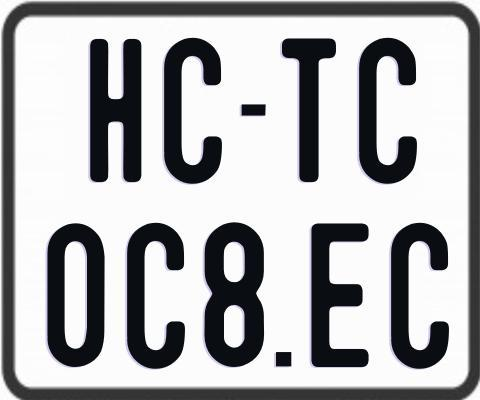0: (45, 223, 107, 368)
8: (203, 221, 266, 371)
C: (358, 38, 422, 187), (161, 38, 223, 190), (127, 222, 187, 374), (391, 223, 451, 375)
E: (309, 221, 369, 364)
H: (87, 39, 144, 185)
T: (281, 38, 339, 186)
